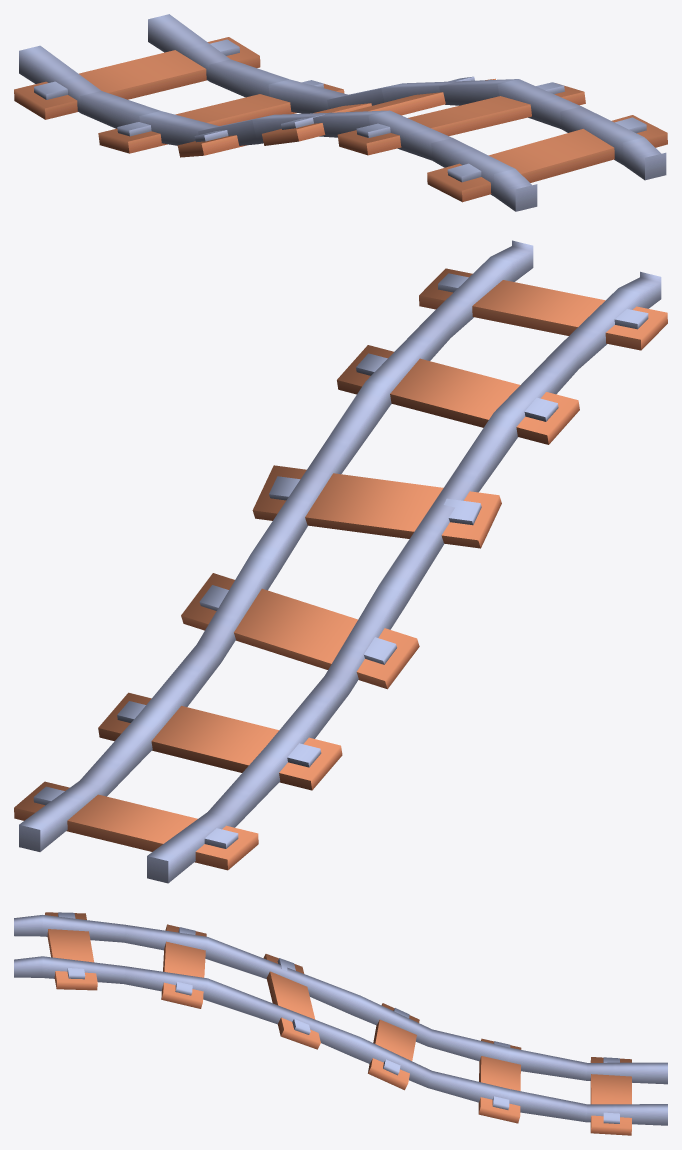
The model's file is kenney-train-railroad-damaged-straight-hill-complete.glb.
3 views of the same model, one above another, from view 1: azimuth 30°, elevation 25°; view 2: azimuth 150°, elevation 25°; view 3: azimuth 270°, elevation 25° (orthographic). The views are drawn at different scales.
Parts seen in each view (by area): view 1: railroad-damaged-straight-hill-complete; view 2: railroad-damaged-straight-hill-complete; view 3: railroad-damaged-straight-hill-complete.
Boxes of the visible parts, <box> form: railroad-damaged-straight-hill-complete: <box>14,14,667,211</box>; railroad-damaged-straight-hill-complete: <box>14,240,667,883</box>; railroad-damaged-straight-hill-complete: <box>14,912,667,1135</box>.
Bounding box in the file's own units: 1.02 × 1.1 × 4.
1 material, 1 textured.
